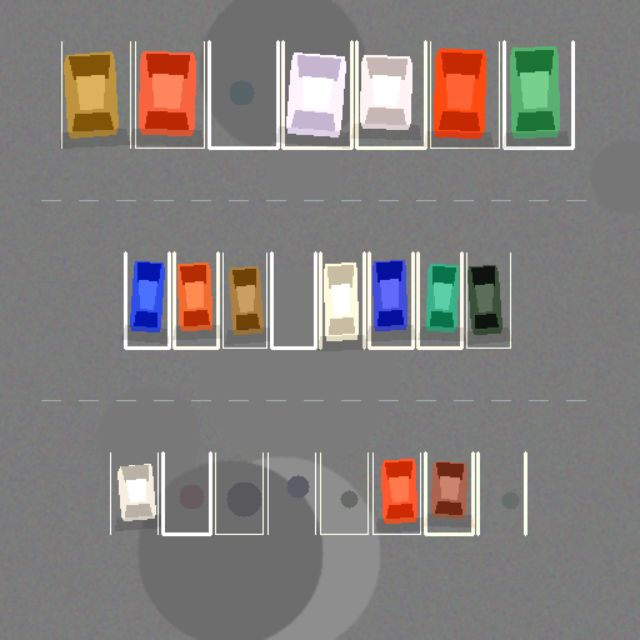space-empty: (209, 41, 278, 148), (271, 252, 315, 348), (215, 453, 263, 534), (267, 453, 315, 534), (477, 453, 525, 534), (163, 453, 210, 534), (320, 453, 367, 534)
space-occupied: (61, 41, 130, 148), (135, 41, 204, 148), (282, 41, 351, 148), (356, 41, 425, 148), (430, 41, 499, 148), (504, 41, 572, 148), (125, 252, 169, 348), (320, 252, 364, 348), (369, 252, 413, 348), (417, 252, 461, 348), (466, 252, 510, 348), (174, 252, 217, 348), (223, 252, 266, 348), (425, 453, 473, 534), (110, 453, 157, 534), (373, 453, 420, 534)
